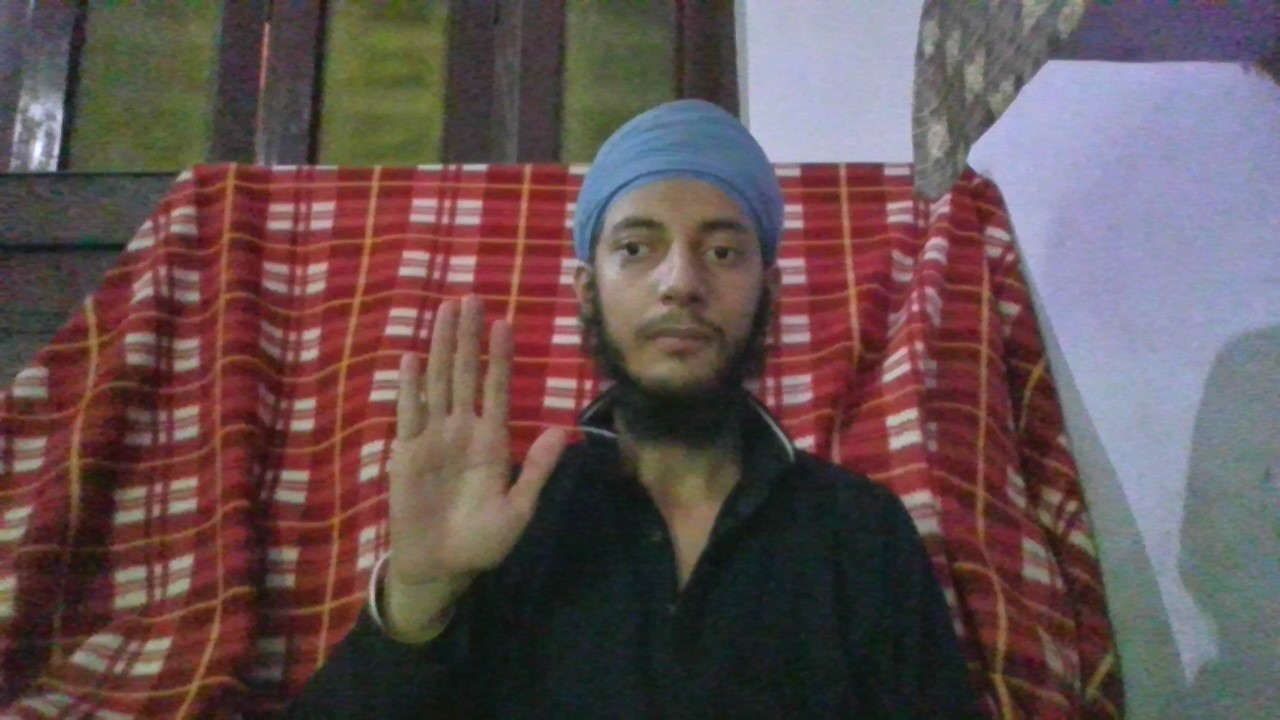Hello: (384, 289, 570, 588)
